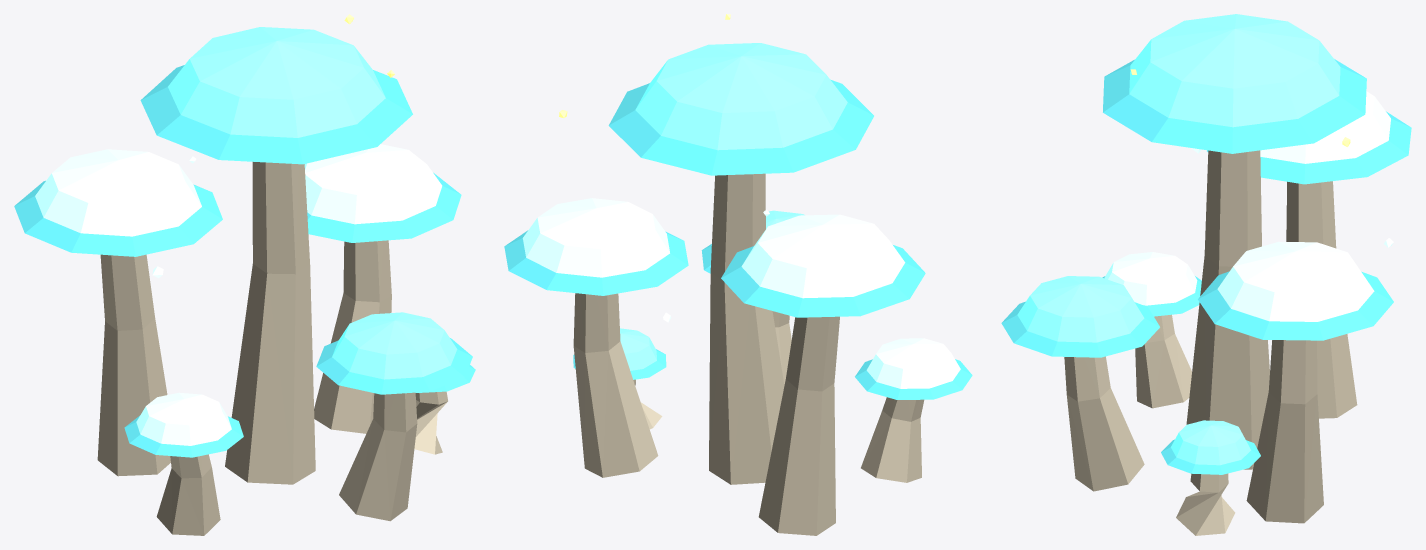
The model's file is glow_mushroom.glb.
The picture shows the model from 3 angles, left to right: view 1: azimuth 30°, elevation 25°; view 2: azimuth 150°, elevation 25°; view 3: azimuth 270°, elevation 25°; orthographic projection. The views are drawn at different scales.
Visible parts, largest first — view 1: glow_mushroom; view 2: glow_mushroom; view 3: glow_mushroom.
Boxes of the visible parts, x1,y1,x2,y2 form: glow_mushroom: (14,14,475,535); glow_mushroom: (504,14,972,535); glow_mushroom: (1001,14,1411,535).
Bounding box in the file's own units: 0.9025 × 0.9043 × 0.7726.
